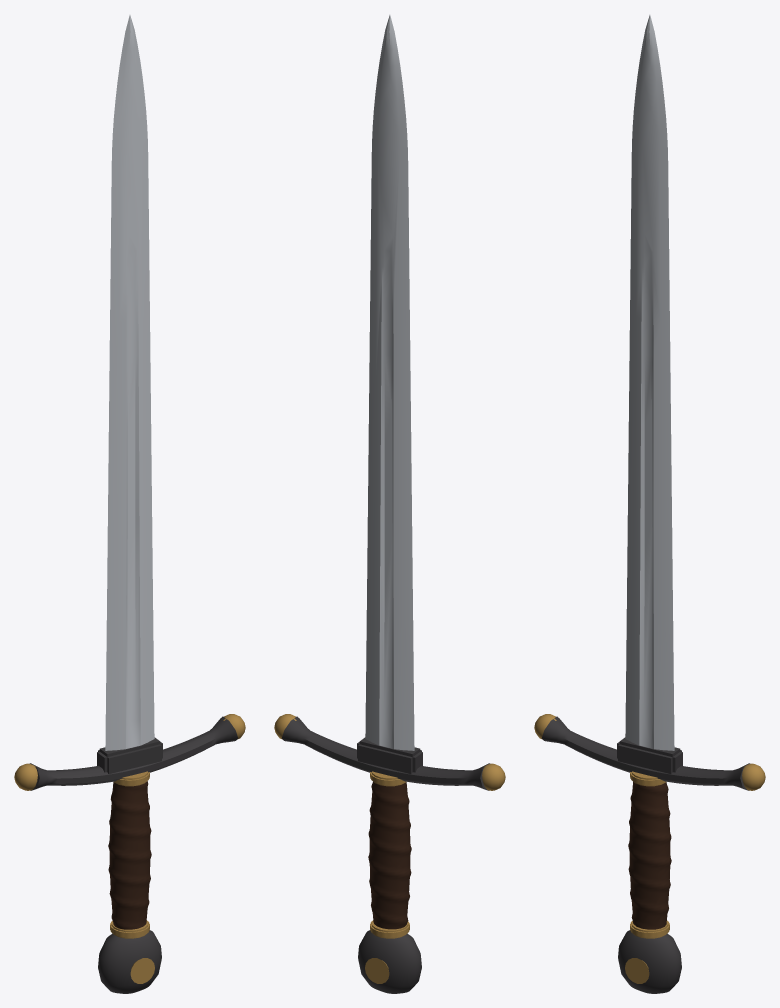
File: longsword.glb
The picture shows the model from 3 angles, left to right: view 1: azimuth 30°, elevation 25°; view 2: azimuth 150°, elevation 25°; view 3: azimuth 330°, elevation 25°; orthographic projection.
Parts seen in each view (by area): view 1: longsword; view 2: longsword; view 3: longsword.
Boxes of the visible parts, left/top/right/bottom form: longsword: left=14, top=15, right=245, bottom=993; longsword: left=274, top=15, right=505, bottom=993; longsword: left=534, top=15, right=765, bottom=993.
Size of the model in its own units: 0.241 by 0.988 by 0.047.
